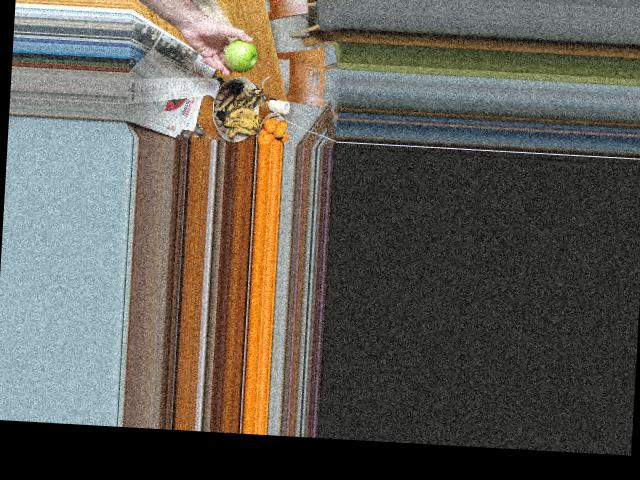apple: (224, 38, 257, 69)
